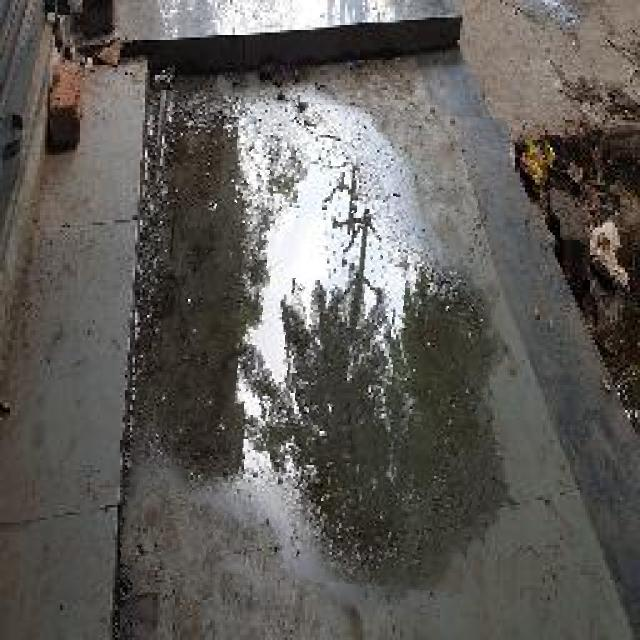puddle: (131, 99, 503, 589)
